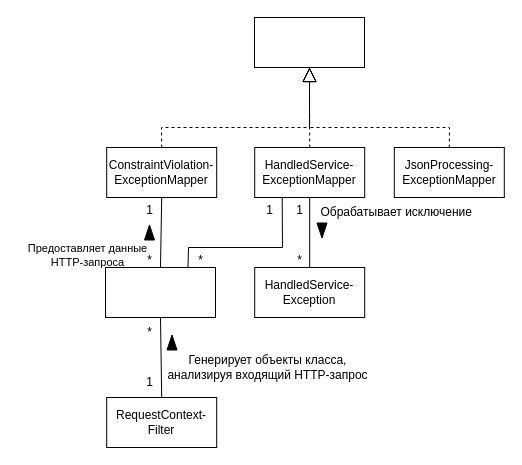
The diagram is 522 pixels wide and 465 high, and some of its shapes have lost their labels. The shapes that lost their labels are listed below. From the top down, each one's centre as x and y in pixels, then its label:
At pixel 309 42: "ExceptionMapper".
At pixel 160 292: "RequestContext- Holder".
